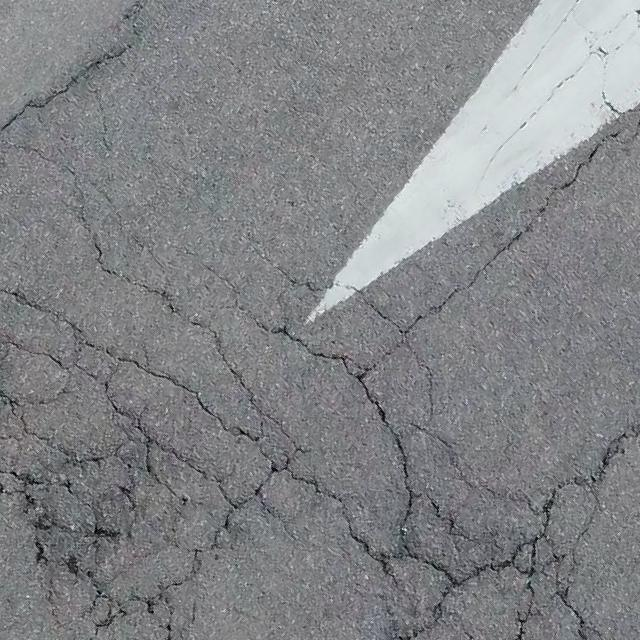GRIETA: (422, 133, 613, 317), (596, 425, 639, 479), (96, 46, 131, 64)
PIEL DE COCODRILO: (0, 63, 608, 639)
